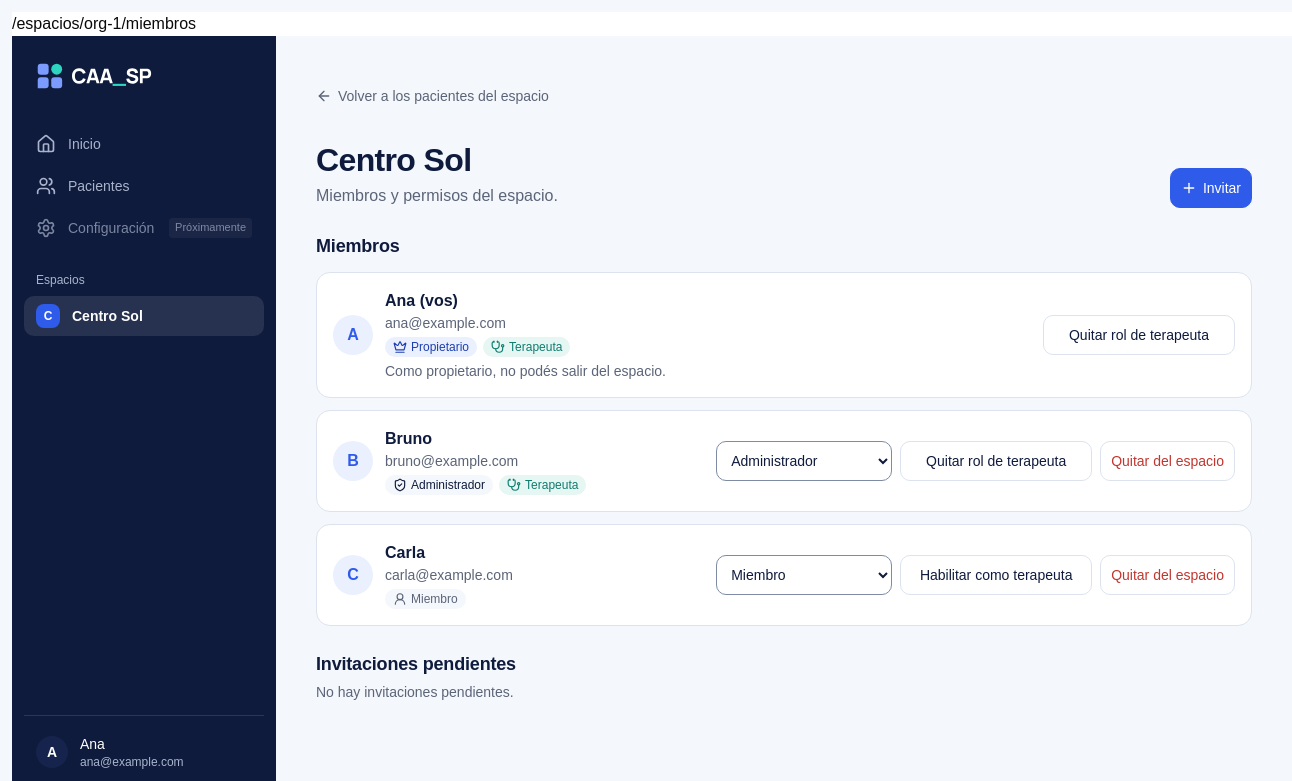
OrganizationMembersPage › a refusal after being demoted elsewhere refreshes the role and hides the stale actions
The image size is (1292, 781).
Click the button "Quitar del espacio" in the row of "carla@example.com" at (1168, 575), box left=1100, top=555, right=1235, bottom=595
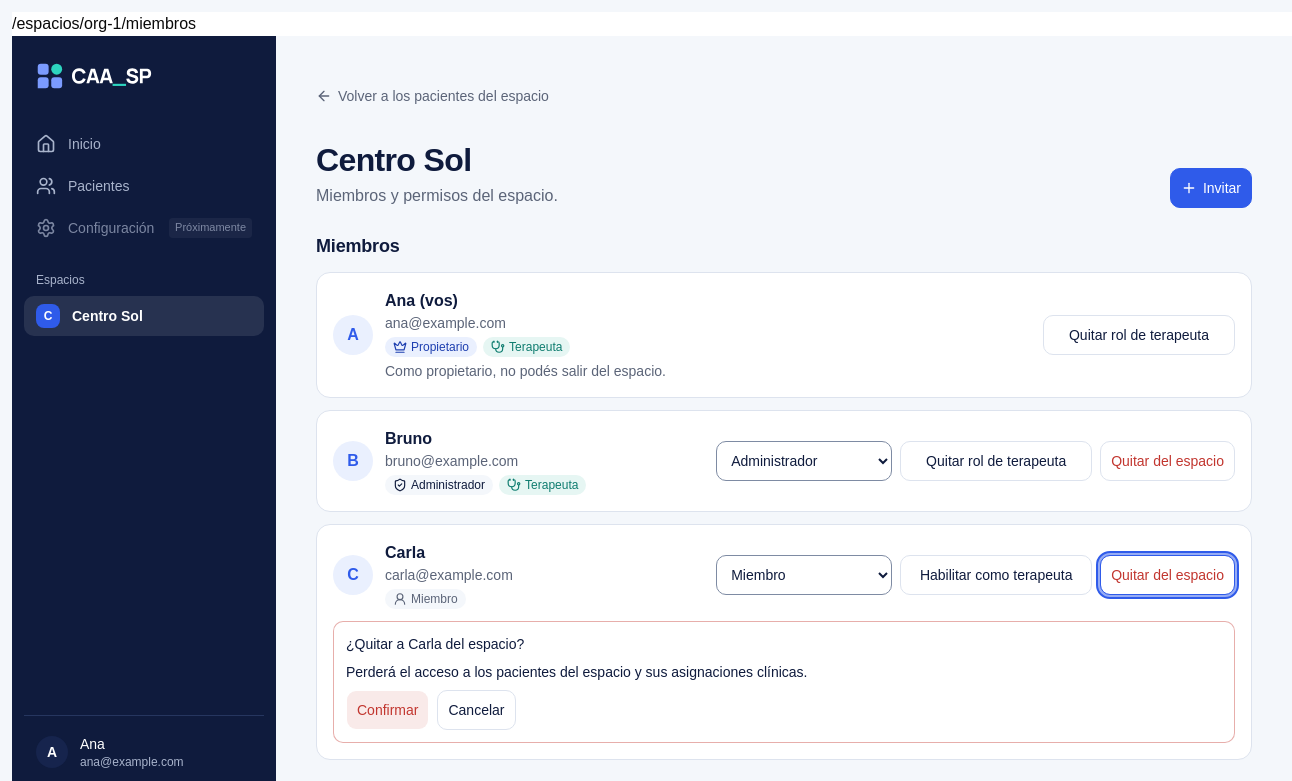
Click the button "Confirmar" at (388, 710), box left=346, top=690, right=430, bottom=730
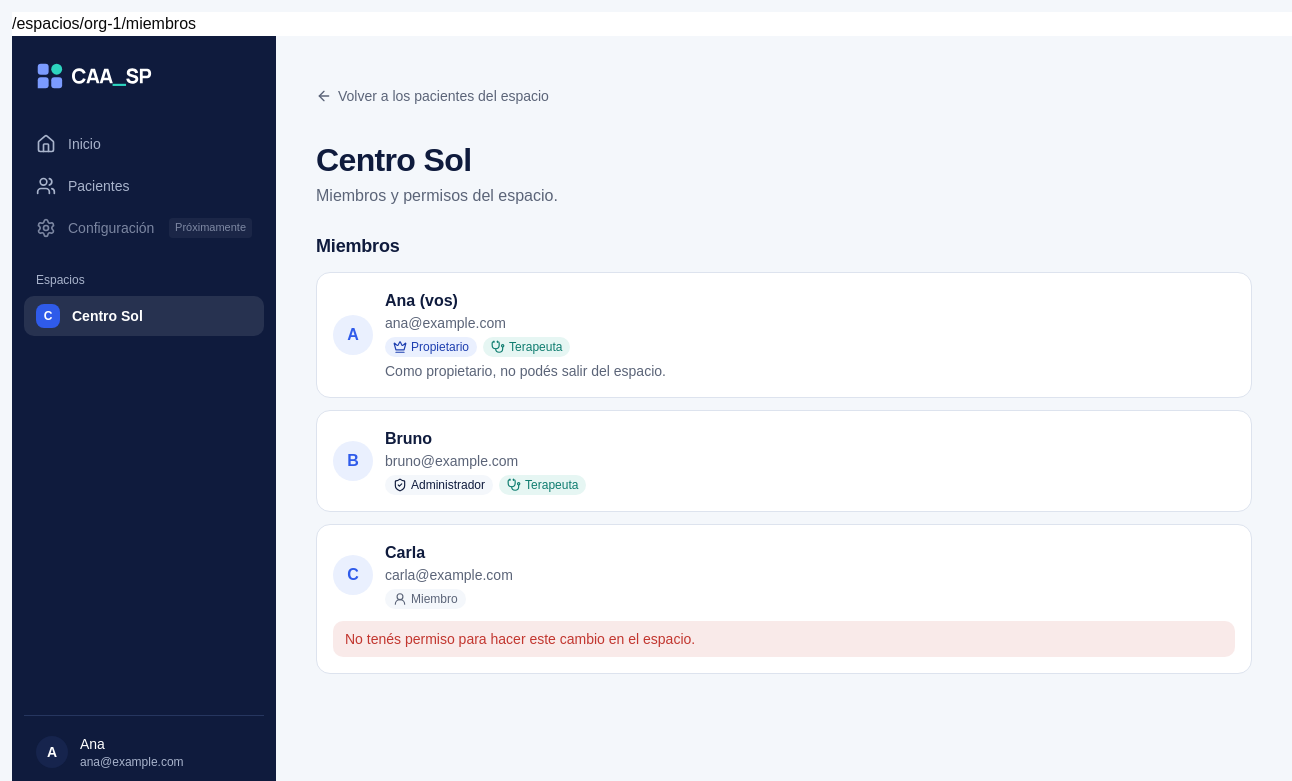
Expected: the field labelled "Rol de gestión de" is not shown
Expected: the button "Quitar del espacio" is gone
Expected: the button "Invitar" is gone
